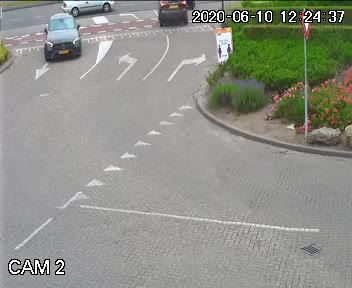car: (43, 11, 86, 60), (154, 0, 191, 28)
